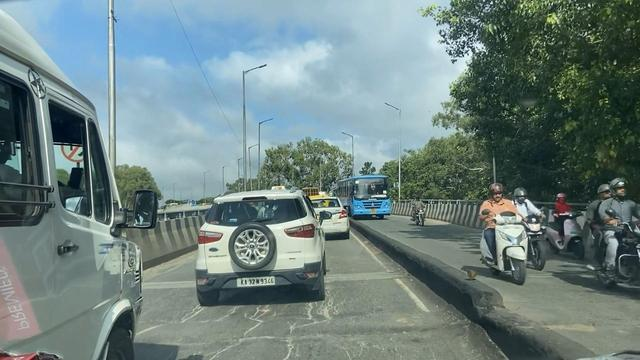LMV: (194, 191, 321, 303), (313, 202, 350, 237)
RoadDamages: (140, 302, 426, 356)
SpeedBump: (325, 269, 399, 283), (144, 279, 193, 292)
